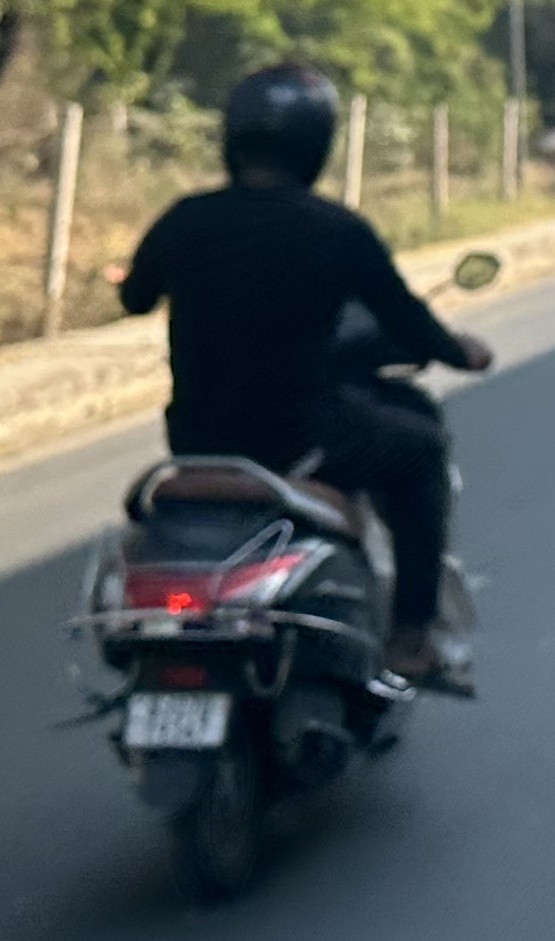BikeWithRider: (46, 27, 503, 882)
Helmet: (222, 57, 342, 200)
